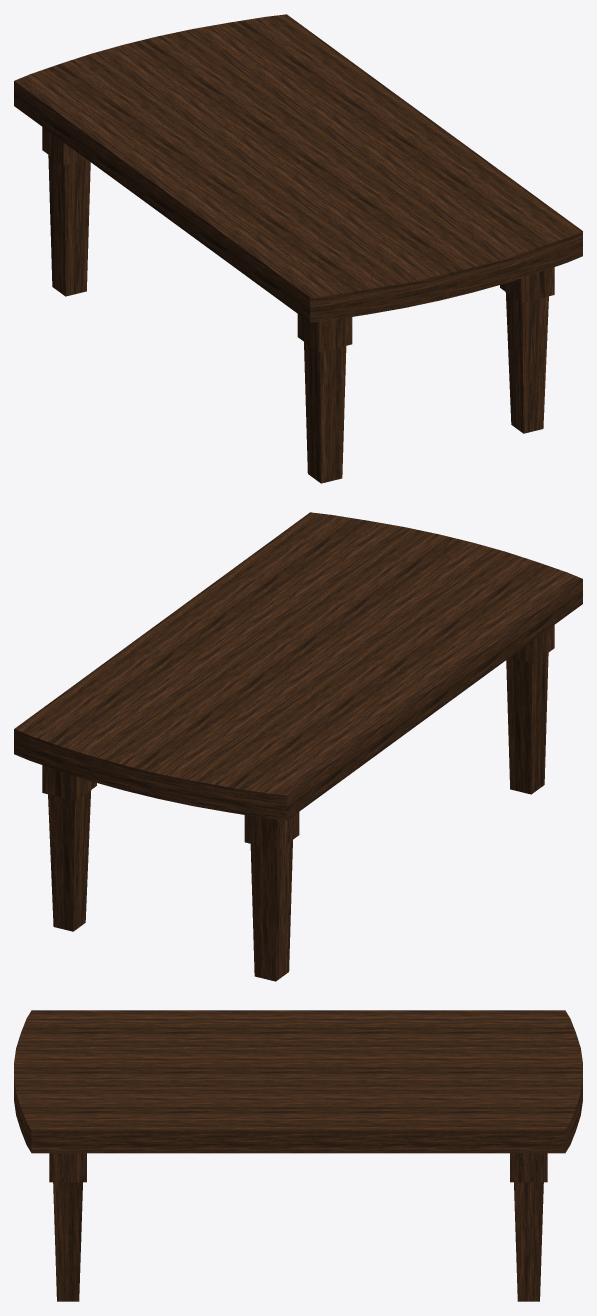
File: DiningTable.fbx
3 views of the same model, one above another, from view 1: azimuth 30°, elevation 25°; view 2: azimuth 150°, elevation 25°; view 3: azimuth 270°, elevation 25° (orthographic). The views are drawn at different scales.
Visible parts, largest first — view 1: DiningRoomTable; view 2: DiningRoomTable; view 3: DiningRoomTable.
Part boxes in pixels (x1=…): DiningRoomTable: x1=14, y1=14, x2=582, y2=483; DiningRoomTable: x1=14, y1=512, x2=582, y2=981; DiningRoomTable: x1=14, y1=1010, x2=582, y2=1301.
Bounding box in the file's own units: 6.39 × 4.52 × 12.8.
1 material, 1 textured.
